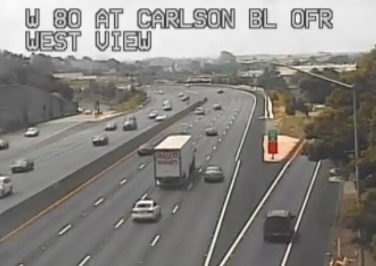car: (264, 210, 292, 242), (131, 200, 159, 221), (204, 166, 222, 182), (139, 144, 154, 155)
truck: (153, 135, 193, 189)
